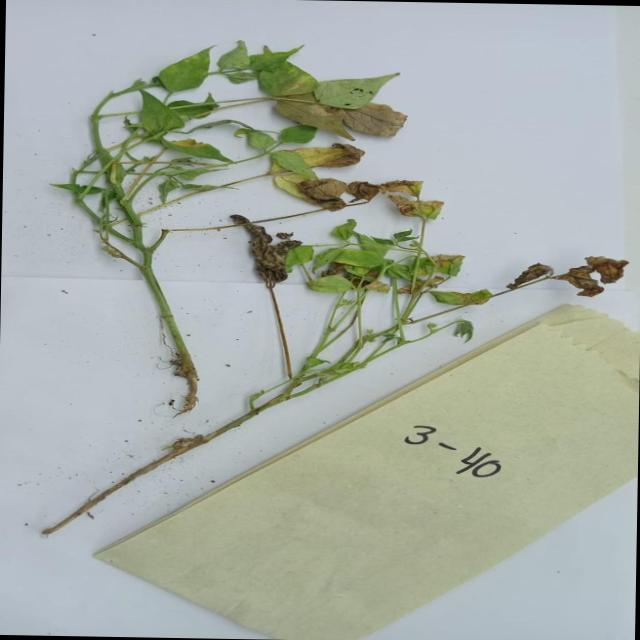Root: (16, 449, 198, 536), (124, 344, 206, 424)
Stem: (53, 158, 154, 264), (105, 260, 202, 350), (256, 355, 376, 395), (124, 159, 269, 184), (218, 394, 321, 427), (87, 144, 137, 204), (106, 197, 158, 250), (328, 290, 366, 359), (384, 297, 426, 347), (302, 323, 334, 366), (88, 93, 110, 151), (100, 80, 158, 94)
healty_leaves: (309, 67, 394, 110), (254, 43, 325, 94), (153, 42, 211, 93), (161, 134, 237, 163), (44, 182, 109, 215), (134, 90, 184, 132), (162, 160, 218, 191), (271, 118, 321, 146), (217, 39, 253, 73), (213, 66, 276, 85), (231, 125, 271, 152)
rooten_leaf: (230, 211, 302, 290), (347, 175, 445, 222), (266, 96, 355, 140), (268, 176, 355, 211), (566, 252, 632, 296), (342, 98, 412, 138), (300, 142, 366, 168), (502, 260, 552, 290), (400, 276, 454, 298), (426, 252, 464, 279), (355, 268, 383, 288), (321, 260, 347, 280)
